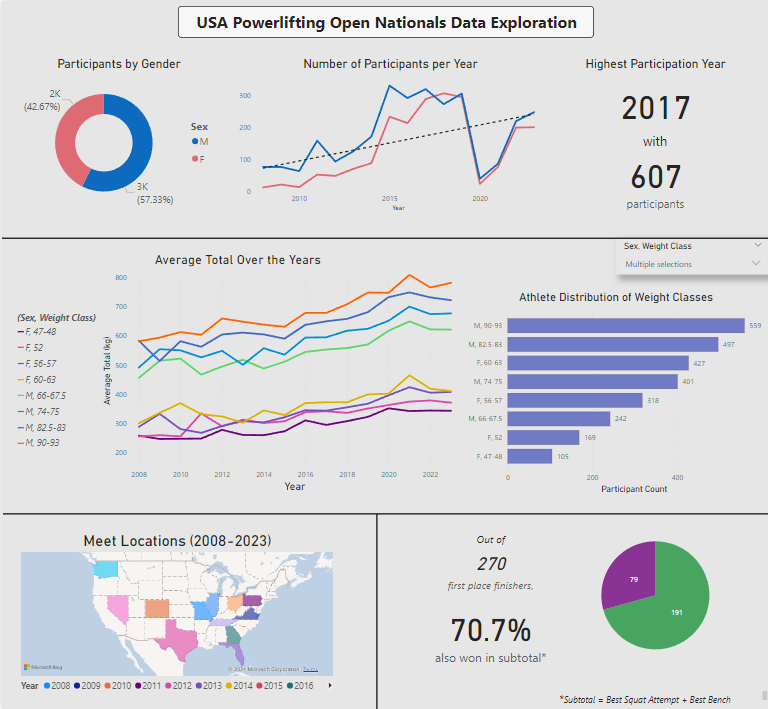

What the dashboard file says about the page in this screenshot:
{"tool":"powerbi","page":{"name":"USAPL Nationals","canvas":[1280,1180],"ordinal":0},"visuals":[{"type":"lineChart","title":"Number of Participants per Year","fields":{"Category":["Open Gender Dist.Year"],"Series":["Open Gender Dist.Sex"],"Y":["Sum(Open Gender Dist.NumberOfParticipants)"]},"box":[390.1,93.5,514.8,262.8],"z":0},{"type":"donutChart","title":"Participants by Gender","fields":{"Y":["Sum(Query1.NumberOfParticipants)"],"Category":["Query1.Sex"]},"box":[20.3,93.5,349.5,262.8],"z":1000},{"type":"lineChart","title":"Average Total Over the Years","fields":{"Category":["Query5.Year"],"Y":["Sum(Query5.average_total)"],"Series":["Query5.CombinedLegend"]},"box":[20.3,418.6,746.4,406.4],"z":2000},{"type":"slicer","fields":{"Values":["Open WeightClass Distribution.CombinedLegend"]},"box":[1022.8,395.6,256,61],"z":3000},{"type":"clusteredBarChart","title":"Athlete Distribution of Weight Classes","fields":{"Category":["Query1.CombinedLegend"],"Y":["Sum(Query1.ParticipantCount)"]},"box":[766.7,480.9,513.4,344.1],"z":4000},{"type":"shape","box":[0,371.2,1278.8,47.4],"z":5000},{"type":"textbox","box":[292.8,7.8,693.5,53.5],"z":6000},{"type":"card","title":"Highest Participation Year","fields":{"Values":["Open Gender Dist.Highest Participation Year"]},"box":[944.2,93.5,288.5,131.4],"z":7000},{"type":"shape","box":[1.5,825.4,1278.8,59.6],"z":8000},{"type":"card","title":"withasd","fields":{"Values":["Open Gender Dist.Max Total Participants"]},"box":[972.7,239.8,231.7,116.5],"z":9000},{"type":"textbox","box":[1039,214,100.2,43.3],"z":10000},{"type":"card","fields":{"Values":["Sum(Query2.SuperWin)"]},"box":[656.8,989.6,315.3,130.8],"z":11000},{"type":"filledMap","title":"Meet Locations (2008-2023)","fields":{"Category":["List of Meet States.MeetState"],"Series":["List of Meet States.Year"]},"box":[26.2,885,530.4,276.1],"z":12000},{"type":"shape","box":[550.8,854.5,149.7,325.5],"z":12001},{"type":"pieChart","fields":{"Y":["Sum(Open Subtotal+Total.Won in Subtotal AND Total)","Sum(Open Subtotal+Total.RemainderCount)"]},"box":[922.8,858.8,331.3,264.5],"z":12002},{"type":"card","title":"Out of","fields":{"Values":["Sum(Open Subtotal+Total.Total Count of First Places)"]},"box":[725.1,885,178.7,106.1],"z":12003},{"type":"textbox","box":[922.8,1145.1,357.5,34.9],"z":12004}]}

Visuals, with their boxes in screenshot pixels (x1, y1, x2, y2), scaled from the page's 1280x1180 canvas onto the 768x709 screenshot:
"Number of Participants per Year" lineChart: l=234, t=56, r=543, b=214
"Participants by Gender" donutChart: l=12, t=56, r=222, b=214
"Average Total Over the Years" lineChart: l=12, t=252, r=460, b=496
slicer - Open WeightClass Distribution.CombinedLegend: l=614, t=238, r=767, b=274
"Athlete Distribution of Weight Classes" clusteredBarChart: l=460, t=289, r=767, b=496
shape: l=0, t=223, r=767, b=252
textbox: l=176, t=5, r=592, b=37
"Highest Participation Year" card: l=567, t=56, r=740, b=135
shape: l=1, t=496, r=767, b=532
"withasd" card: l=584, t=144, r=723, b=214
textbox: l=623, t=129, r=684, b=155
card - Sum(Query2.SuperWin): l=394, t=595, r=583, b=673
"Meet Locations (2008-2023)" filledMap: l=16, t=532, r=334, b=698
shape: l=330, t=513, r=420, b=708
pieChart - Sum(Open Subtotal+Total.Won in Subtotal AND Total) x Sum(Open Subtotal+Total.RemainderCount): l=554, t=516, r=752, b=675
"Out of" card: l=435, t=532, r=542, b=595
textbox: l=554, t=688, r=767, b=708
